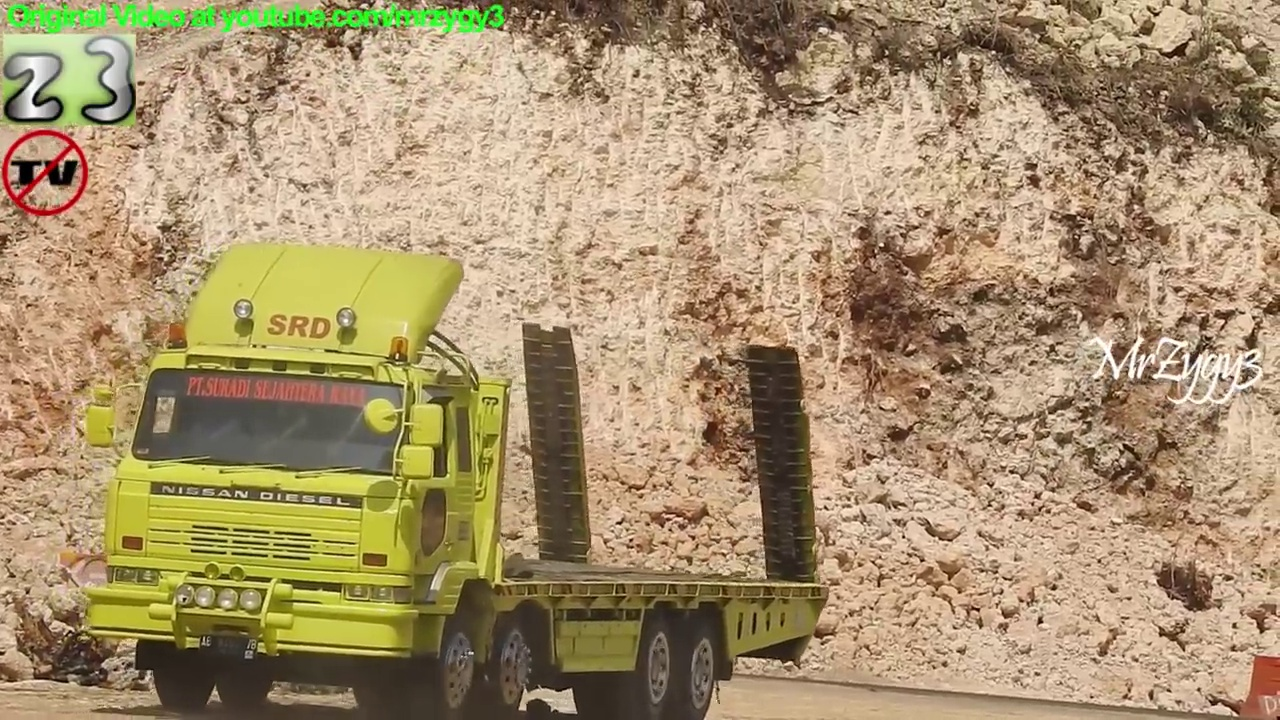truck: (74, 238, 843, 720)
